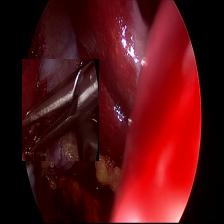Grasper: (22, 59, 99, 161)
